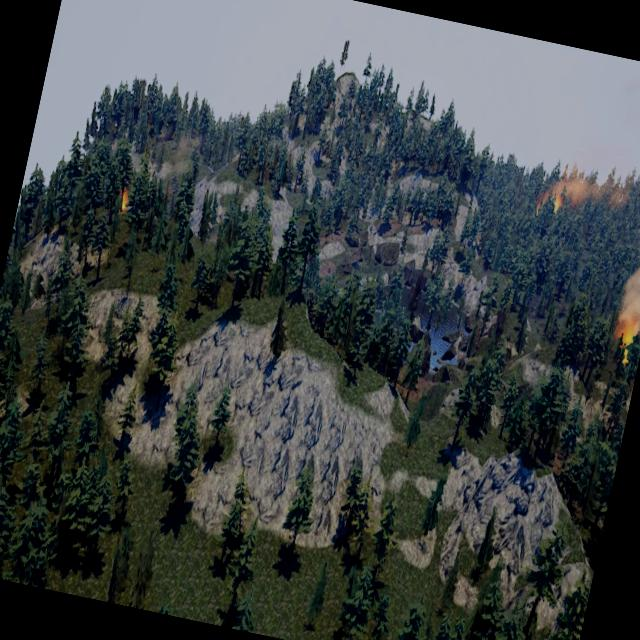fire: (612, 319, 640, 368), (116, 188, 128, 210), (552, 194, 562, 211)
smoke: (534, 153, 633, 236), (615, 172, 640, 331)
